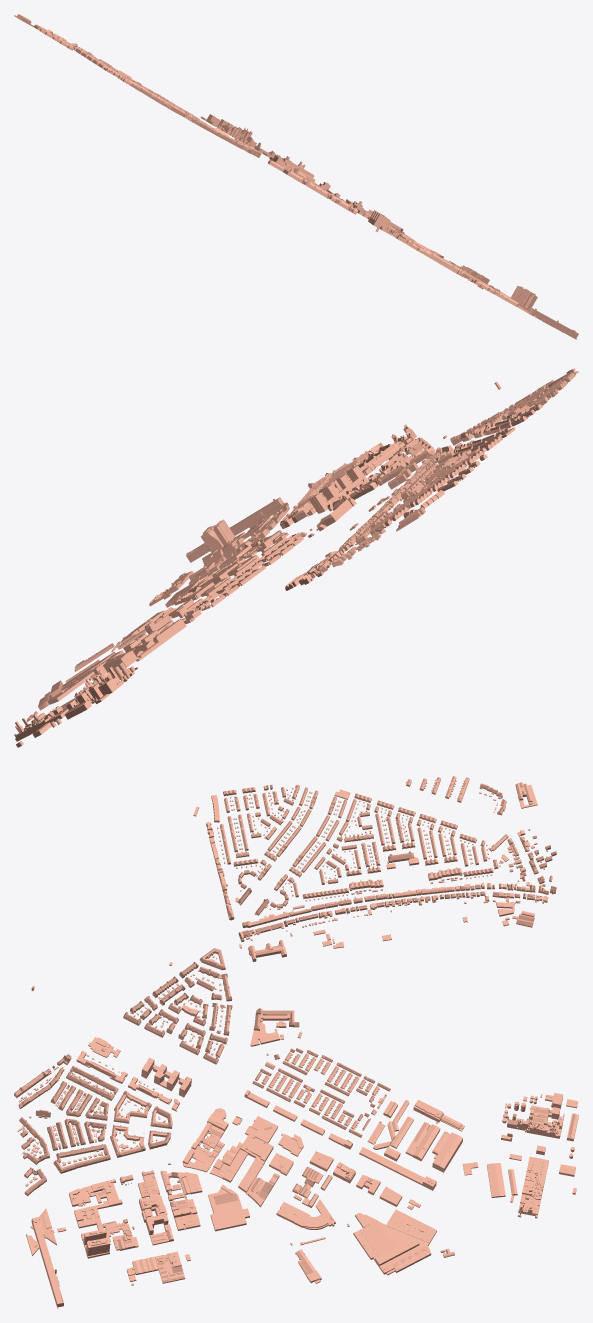
3 views of the same model, one above another, from view 1: azimuth 30°, elevation 25°; view 2: azimuth 150°, elevation 25°; view 3: azimuth 270°, elevation 25° (orthographic). The views are drawn at different scales.
Bounding box in the file's own units: 3.53e+07 × 2.52e+07 × 3.98e+07.
